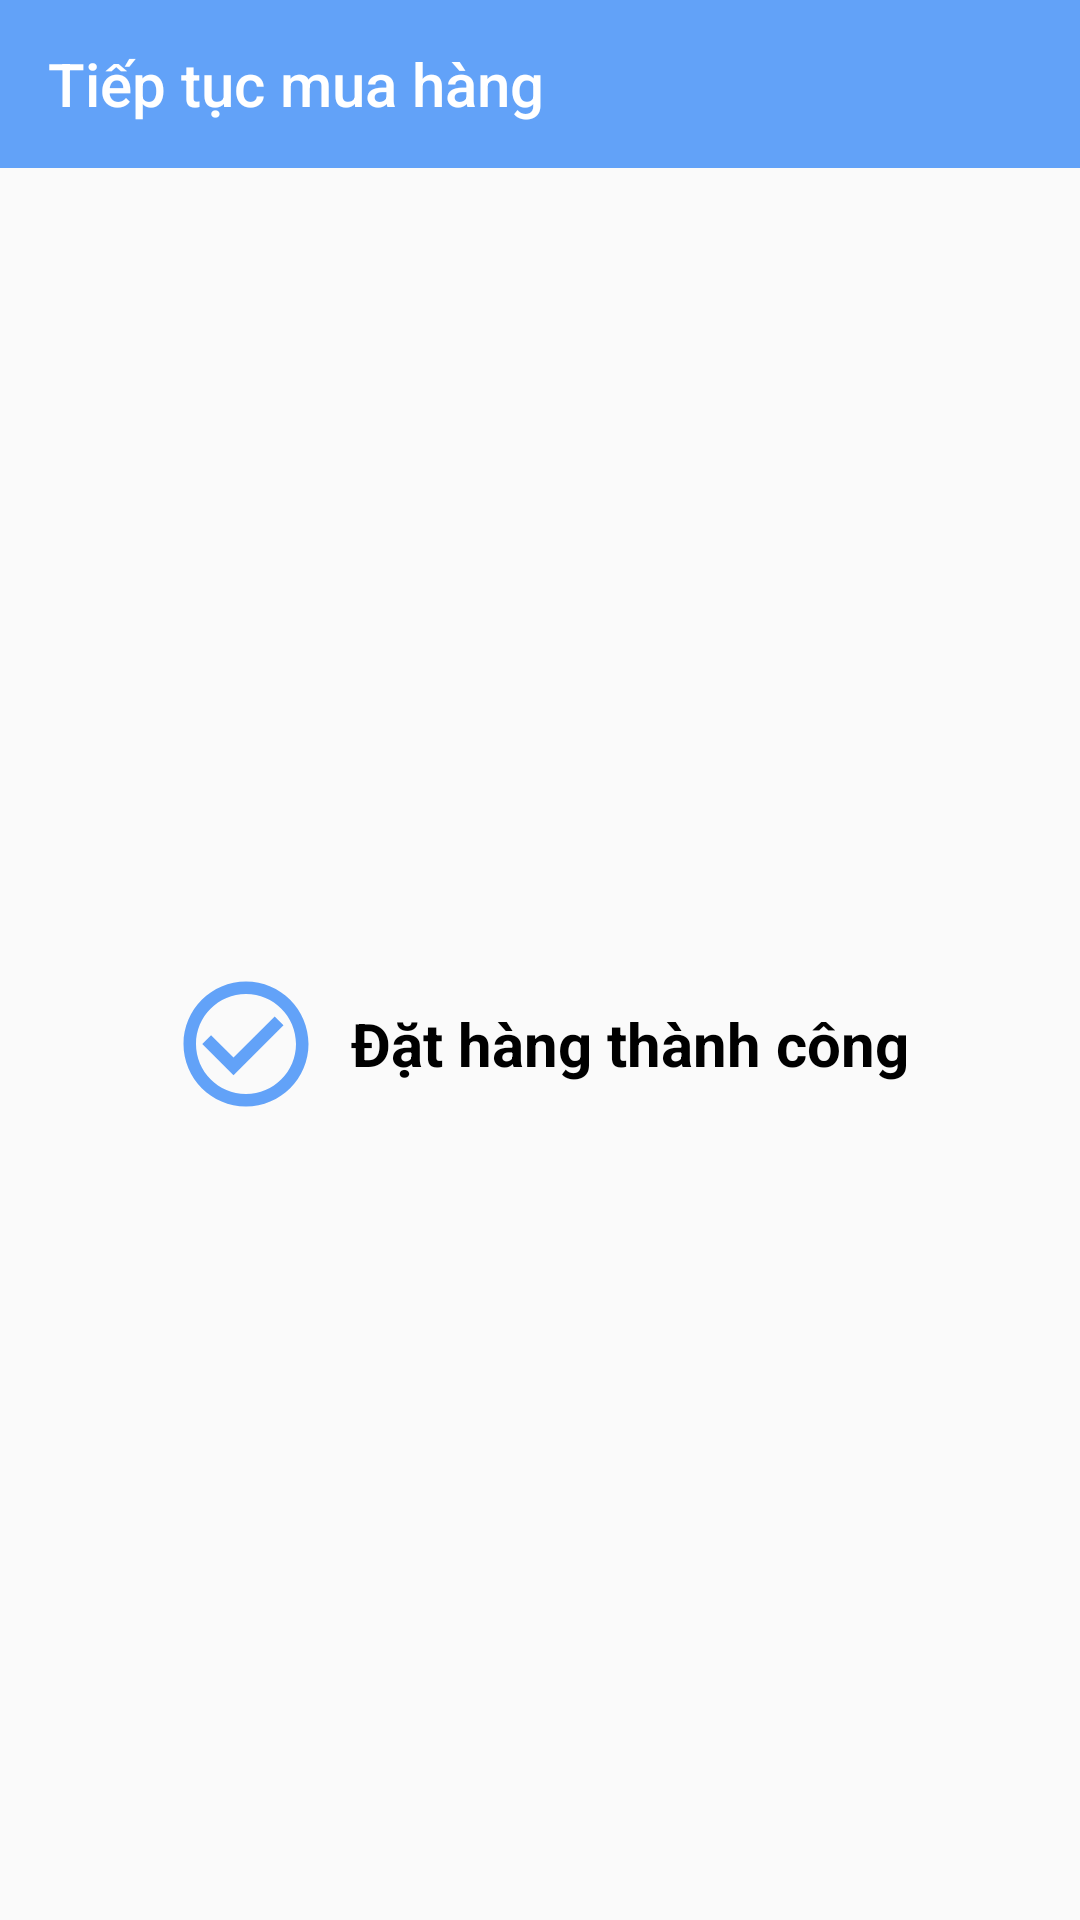

Where to tap for icons on this 1080*1920 app screen, as point (x, y):
check circle: point (246, 1044)
